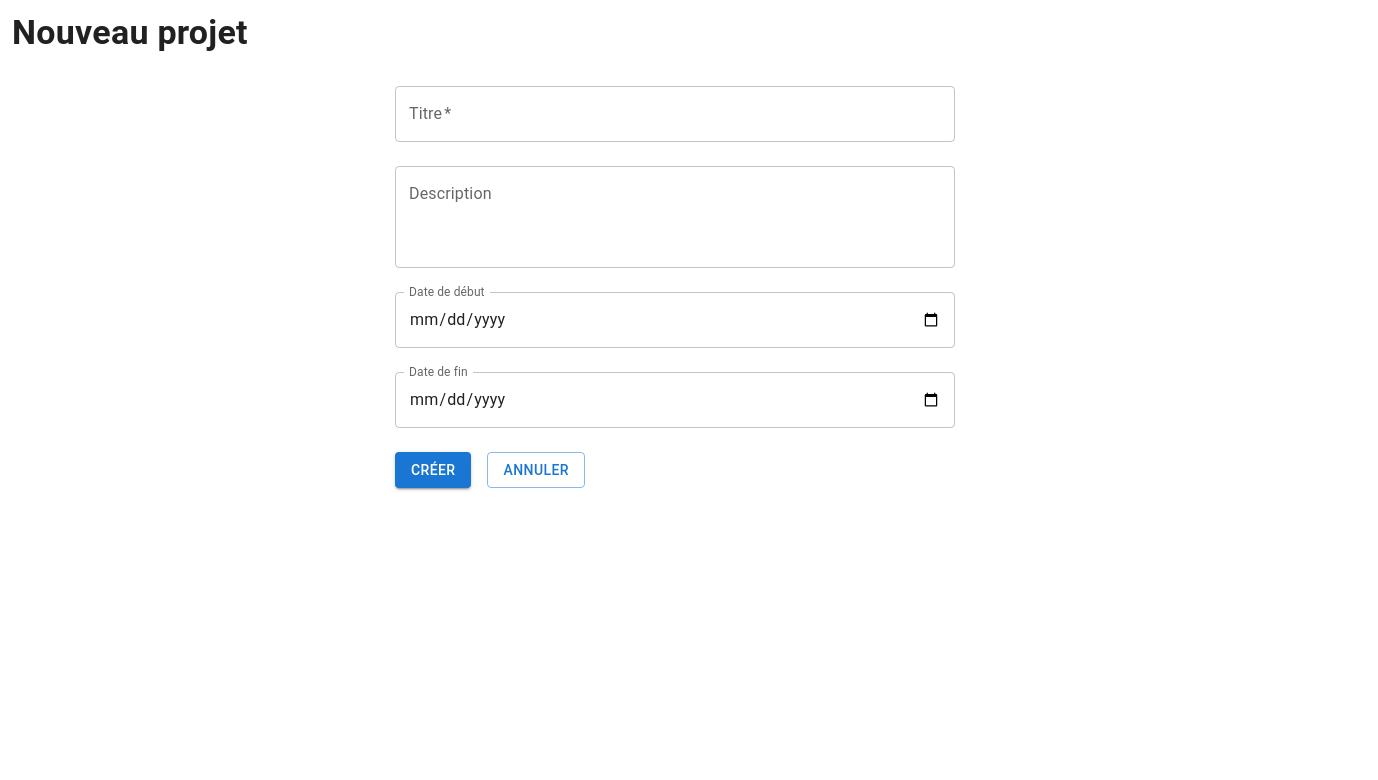
Test case: ProjectCreatePage › should show validation error when end date is before start date
In the field labelled "Titre *": (675, 114) [395, 86, 955, 142], type "Mon projet"
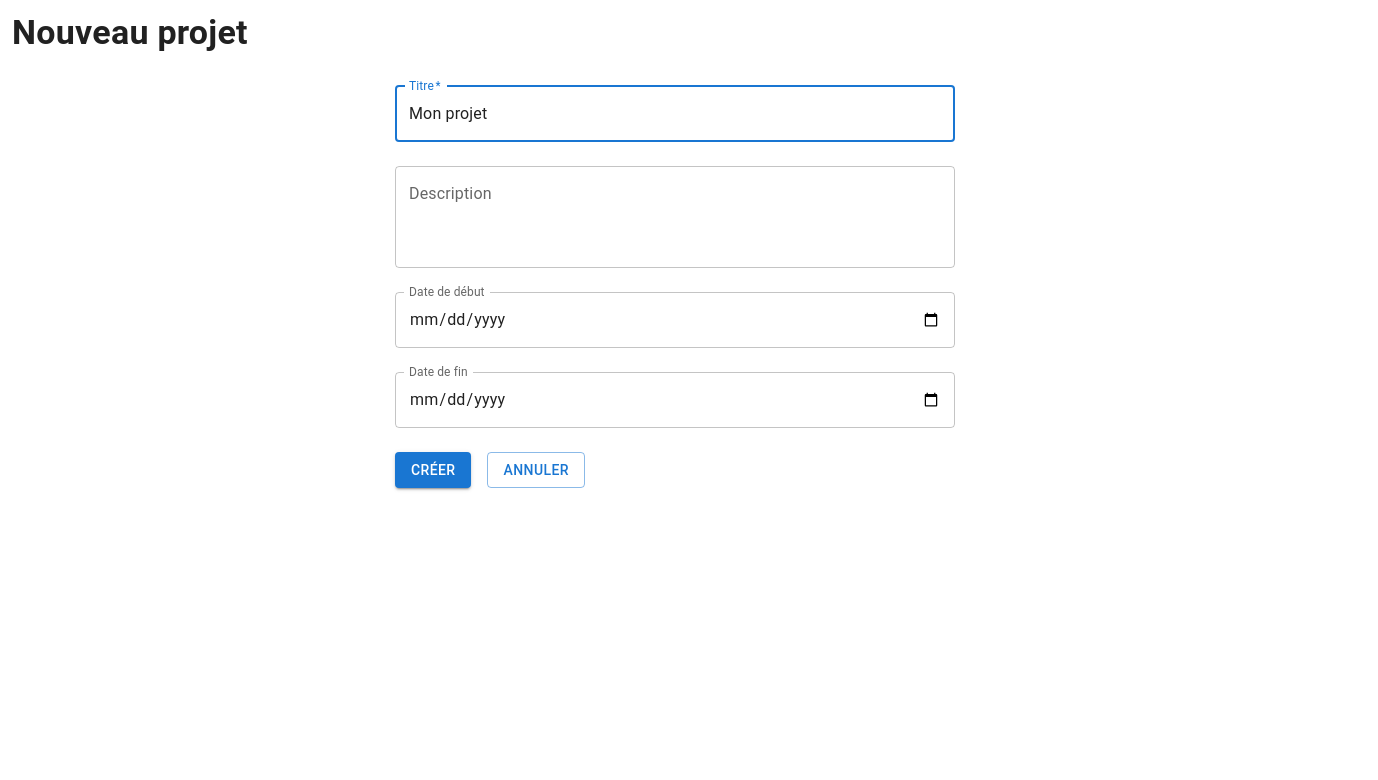
In the date field labelled "Date de début": (675, 320) [395, 292, 955, 348], type "2026-08-27"
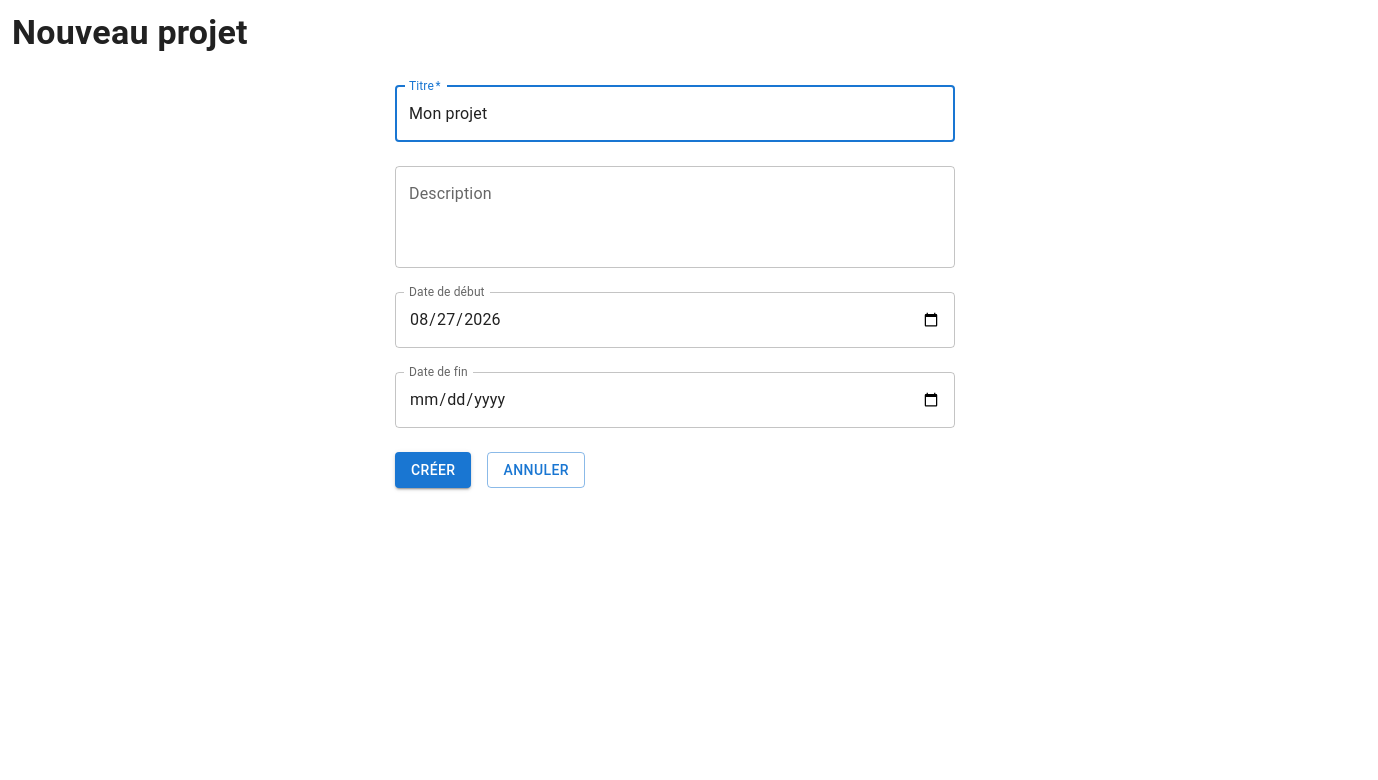
In the date field labelled "Date de fin": (675, 400) [395, 372, 955, 428], type "2026-08-01"
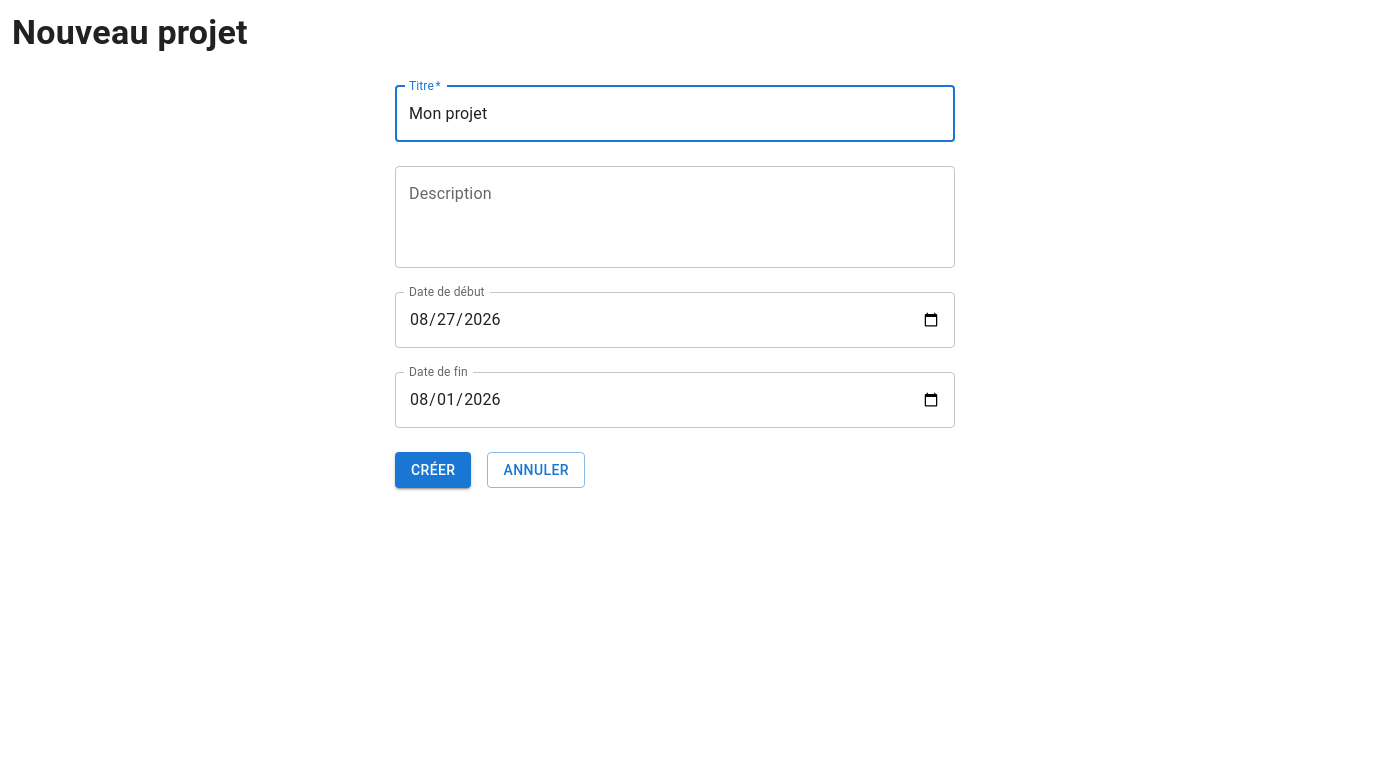
Click the button "Créer": (433, 470) [395, 452, 472, 488]
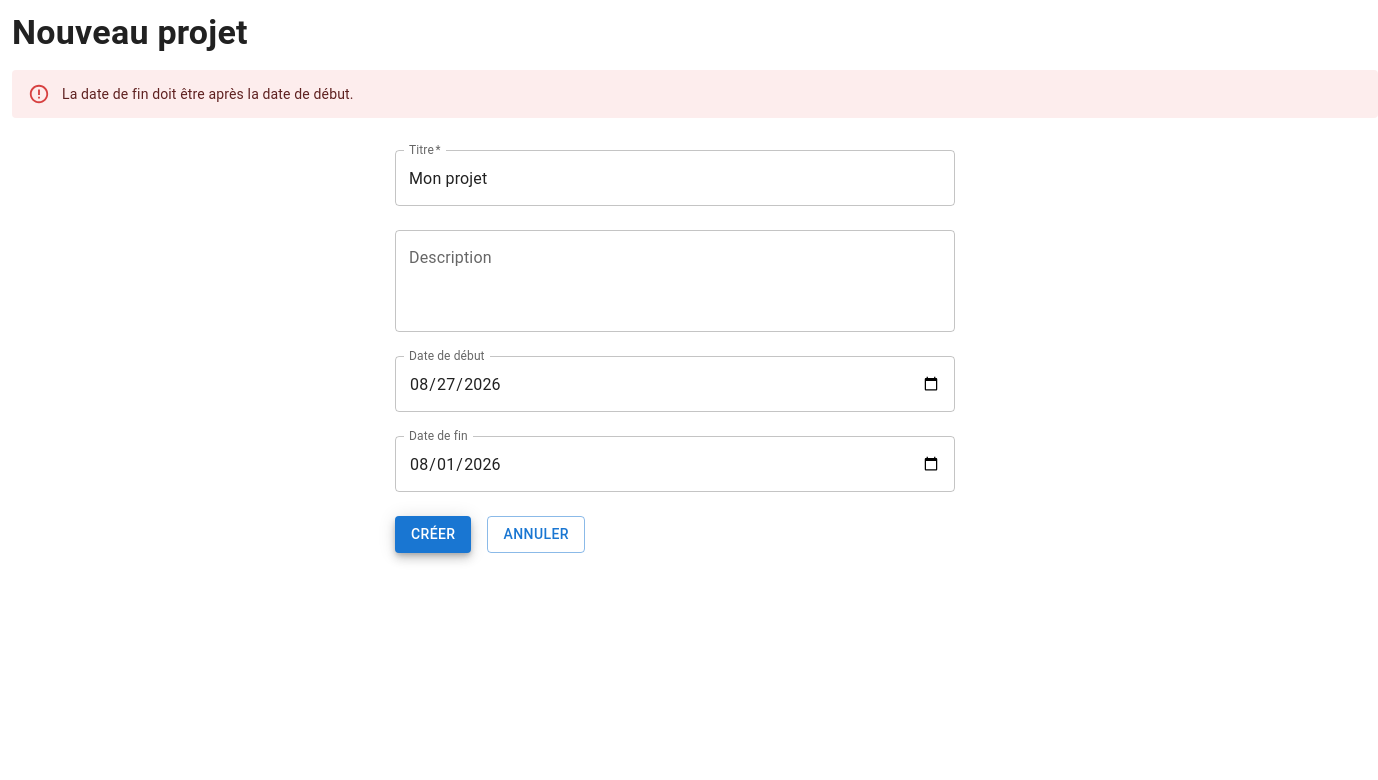
Check: the text "La date de fin doit être après la date de début." is shown, box [62, 86, 354, 102]
